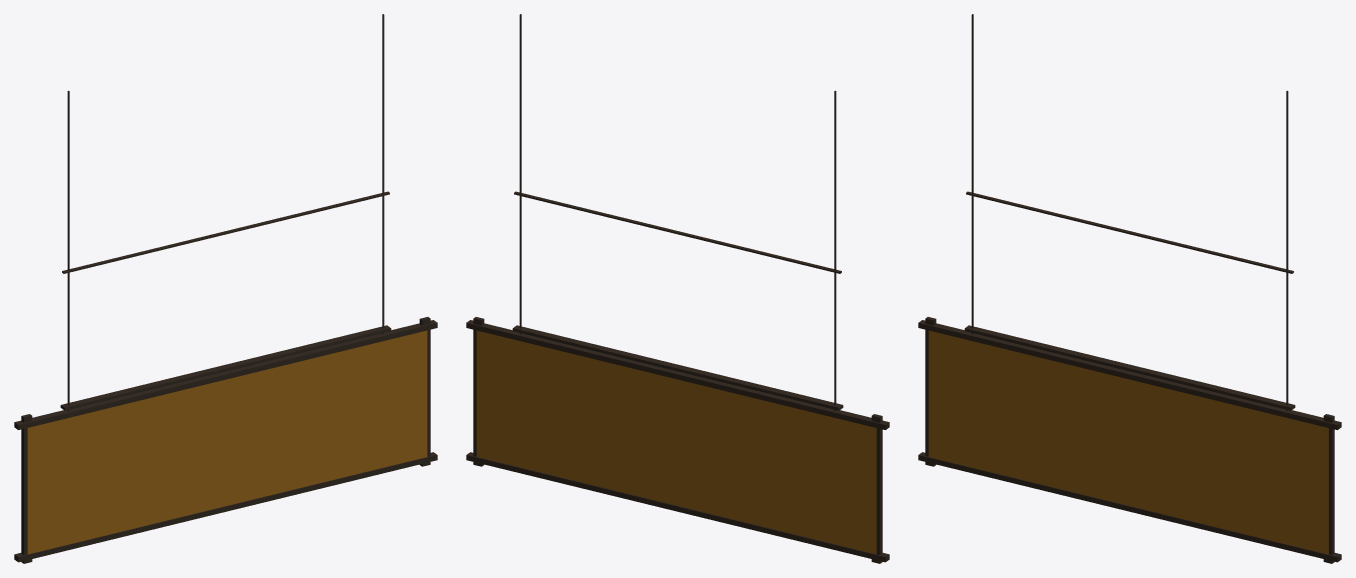
Rendered from BannerHolder_wih_Banner.FBX.
The picture shows the model from 3 angles, left to right: view 1: azimuth 30°, elevation 25°; view 2: azimuth 150°, elevation 25°; view 3: azimuth 330°, elevation 25°; orthographic projection.
Visible parts, largest first — view 1: BannerHolder_wih_Banner; view 2: BannerHolder_wih_Banner; view 3: BannerHolder_wih_Banner.
Part boxes in pixels (box(x1,y1,x2,y2)): BannerHolder_wih_Banner: box(14, 14, 437, 563); BannerHolder_wih_Banner: box(466, 14, 889, 563); BannerHolder_wih_Banner: box(918, 14, 1341, 563).
Bounding box in the file's own units: 421 × 442 × 7.01.
